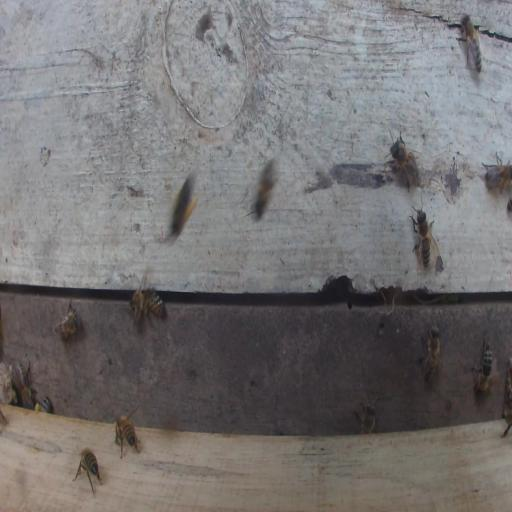bee: (408, 191, 442, 272), (382, 128, 422, 196), (129, 272, 164, 325), (171, 172, 199, 235), (453, 14, 483, 72), (252, 158, 279, 220), (417, 321, 441, 386), (73, 448, 103, 496), (114, 407, 139, 459), (471, 337, 492, 394), (483, 153, 512, 194), (11, 361, 35, 408), (53, 301, 80, 341), (502, 359, 512, 436), (353, 402, 377, 434), (36, 396, 53, 413)
